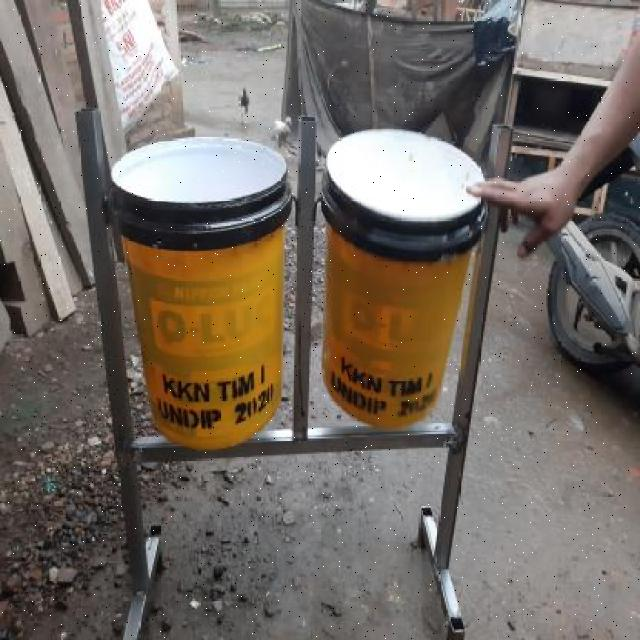garbage container: (106, 130, 292, 439), (322, 119, 498, 441)
